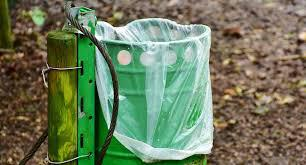Plastic: (103, 21, 213, 159)
